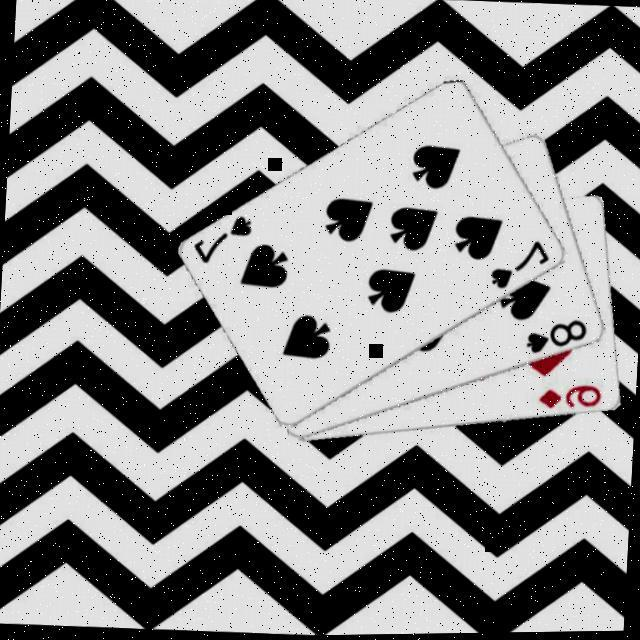7S: (488, 236, 556, 296), (192, 210, 258, 270)
8S: (524, 314, 592, 360)
9D: (538, 380, 607, 415)
